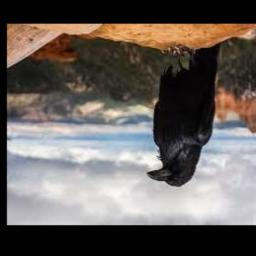Crow: (146, 43, 220, 187)
